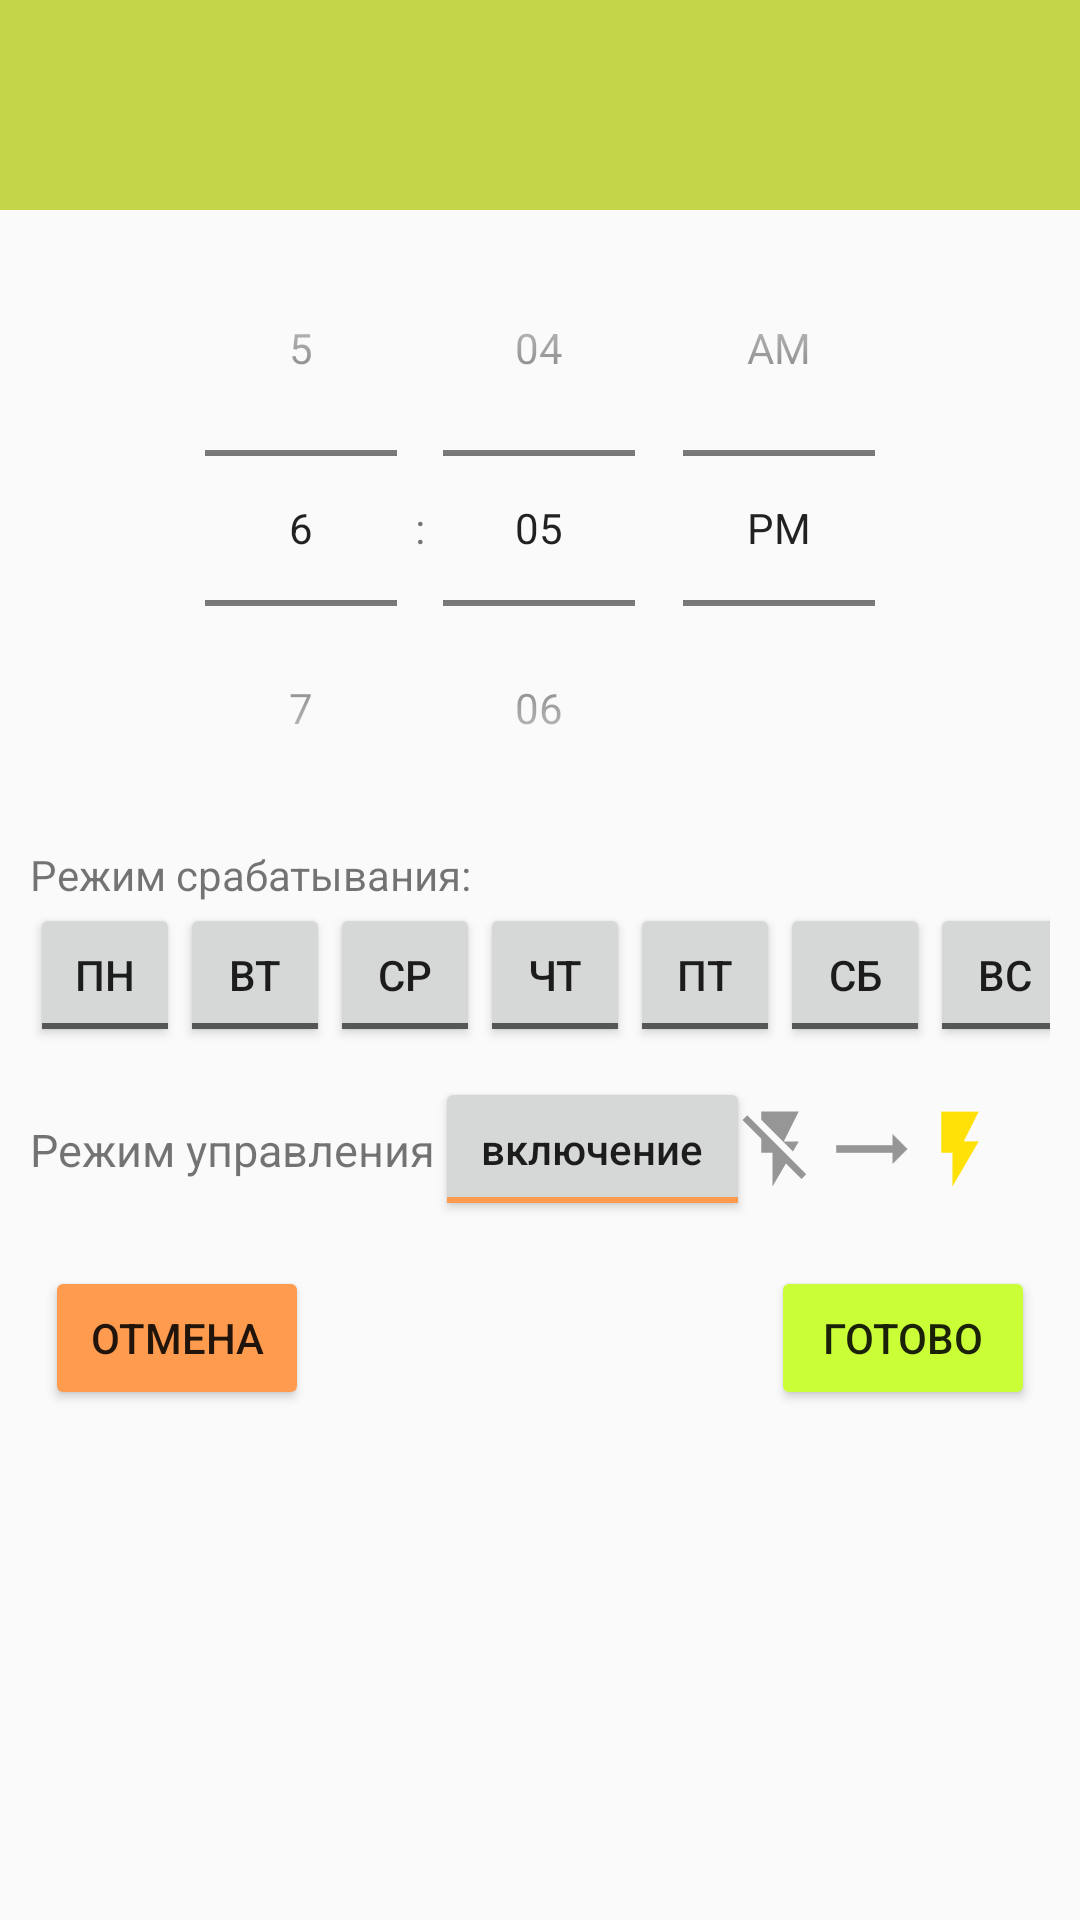

Screen size 1080px×1920px. Icon name, then its box in pixels as (x1, y1, x2, y2):
Конечное состояние: (941, 1111, 979, 1186)
Направление перехода: (836, 1134, 907, 1164)
Начальное состояние: (743, 1111, 806, 1186)
